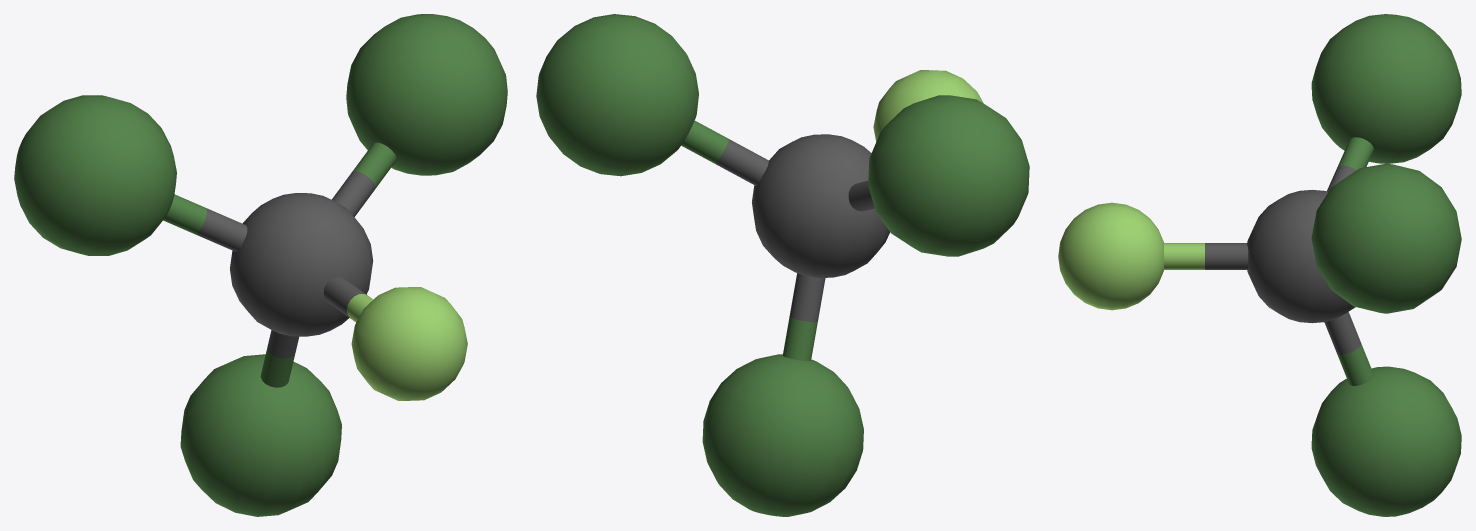
The model's file is 05_Clorofluorocarbono.fbx.
The picture shows the model from 3 angles, left to right: view 1: azimuth 30°, elevation 25°; view 2: azimuth 150°, elevation 25°; view 3: azimuth 270°, elevation 25°; orthographic projection. The views are drawn at different scales.
Visible parts, largest first — view 1: m_clorofuorocarburo; view 2: m_clorofuorocarburo; view 3: m_clorofuorocarburo.
Part boxes in pixels (x1,y1,x2,y2): m_clorofuorocarburo: (14, 14, 507, 516); m_clorofuorocarburo: (536, 14, 1029, 516); m_clorofuorocarburo: (1058, 14, 1461, 516).
Bounding box in the file's own units: 753 × 681 × 603.
